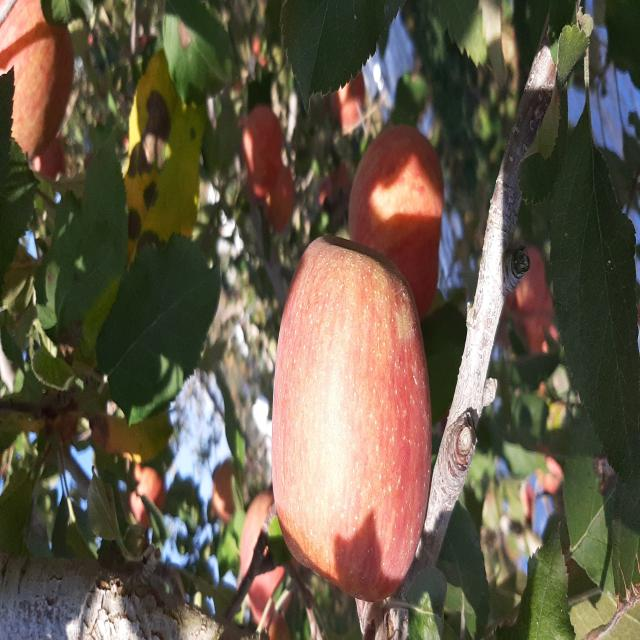fresh: (266, 224, 438, 608)
